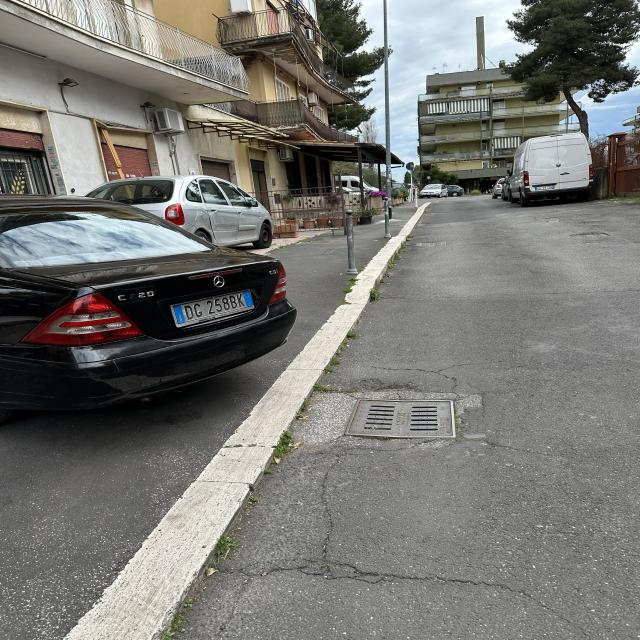number_plate: (172, 291, 253, 326)
